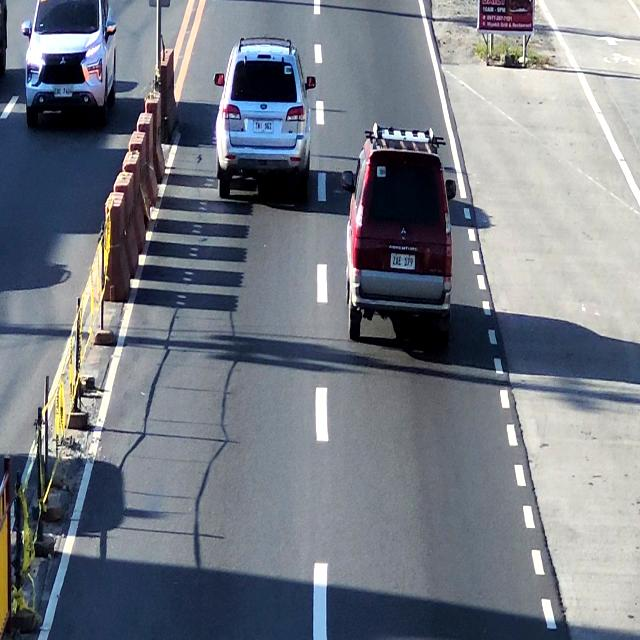Car: (340, 128, 454, 351), (208, 34, 315, 195)
License-Plate: (391, 252, 418, 276), (52, 84, 74, 99), (254, 118, 274, 134)
